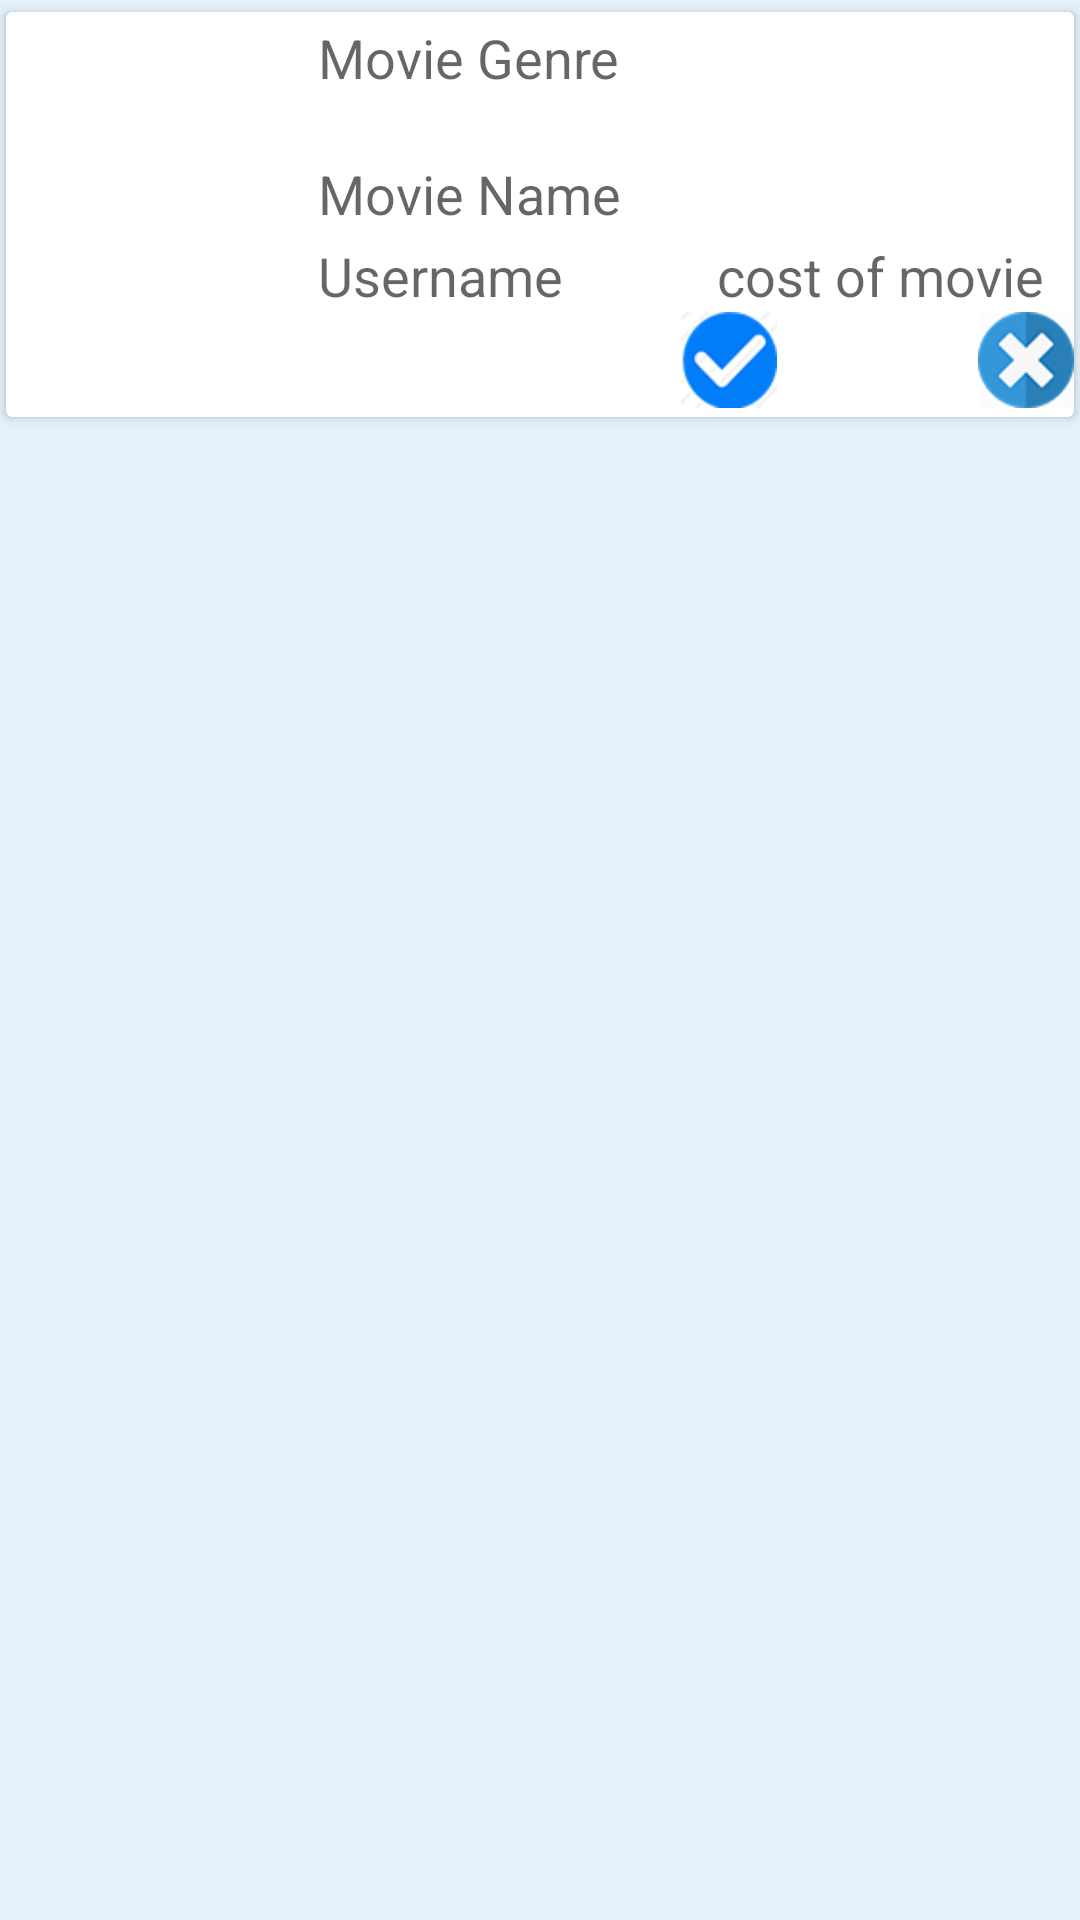

Screen size 1080px×1920px. Icon name, then its center in pixels as point (x, y):
accept: point (729, 360)
deny: point (1026, 360)
